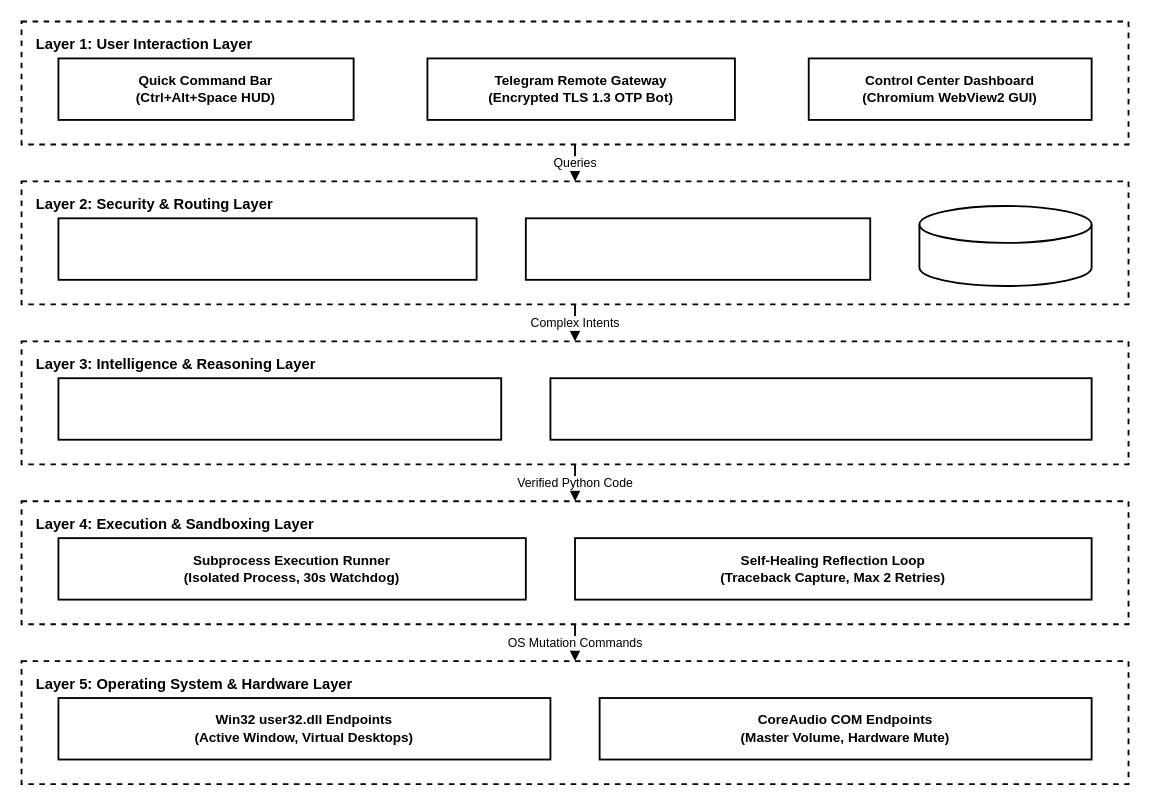
The diagram is 1151 pixels wide and 807 high, and some of its shapes have lost their labels. Here are the shapes that lost their labels. From the top down, the centre of each, then its label:
At [267,248]: "Three-Lane Command Router (Deterministic Latency Tiers)".
At [697,248]: "AST Static Code Safety Guard (Safe / Sensitive / Critical Tiers)".
At [1005,245]: "DPAPI Enclave Vault (CryptProtectData)".
At [279,408]: "Cascading Agent Brain (LiteLLM Orchestrator)".
At [820,408]: "Multi-Cloud Cascading Fallback (Gemini 3.1 -> Groq -> Claude -> Ollama)".
